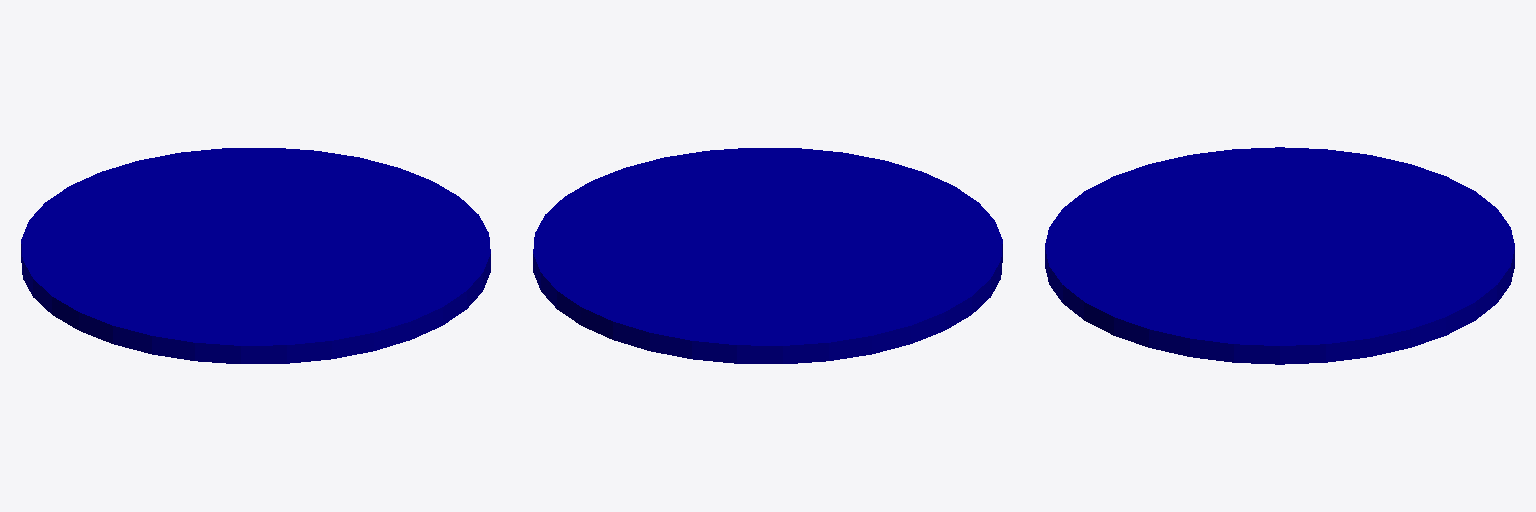
Rendered from puck.obj.
The picture shows the model from 3 angles: view 1: azimuth 30°, elevation 25°; view 2: azimuth 150°, elevation 25°; view 3: azimuth 270°, elevation 25°; orthographic projection.
Visible parts, largest first — view 1: Cylinder; view 2: Cylinder; view 3: Cylinder.
Part boxes in pixels (x1,y1,x2,y2): Cylinder: (21,148,490,363); Cylinder: (533,148,1002,363); Cylinder: (1045,147,1514,364).
Size of the model in its own units: 0.2734 by 0.0119 by 0.2734.